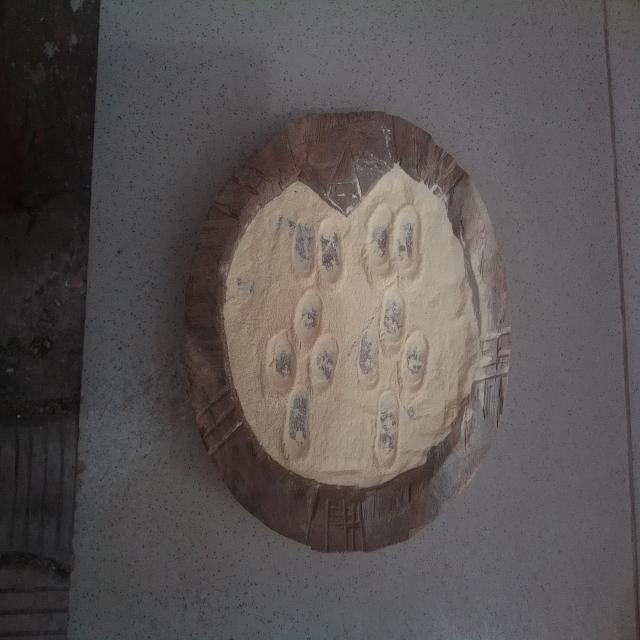double: (363, 198, 427, 292), (262, 332, 342, 400), (352, 331, 431, 397), (289, 218, 352, 296)
single: (371, 403, 404, 481), (278, 402, 312, 471), (290, 300, 325, 350), (378, 294, 408, 350)
